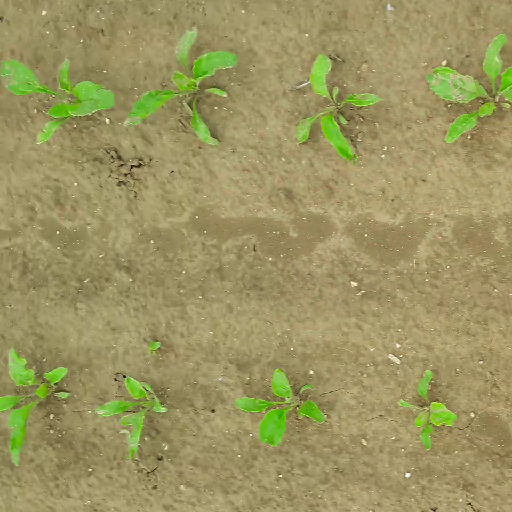sugarbeet: (127, 28, 241, 148), (290, 52, 384, 166), (1, 54, 117, 145), (422, 31, 512, 144), (1, 349, 71, 469), (233, 369, 327, 447), (92, 377, 169, 463), (396, 369, 459, 453)
